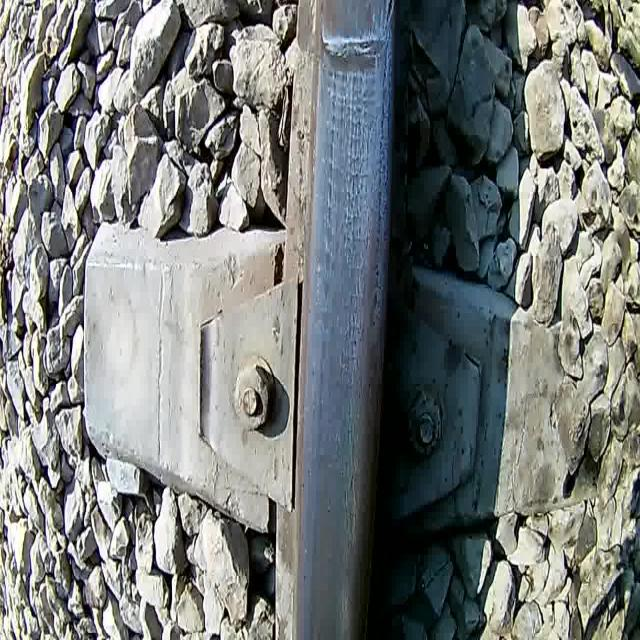Shellings: (370, 0, 399, 337)
Squats: (313, 0, 397, 89)
